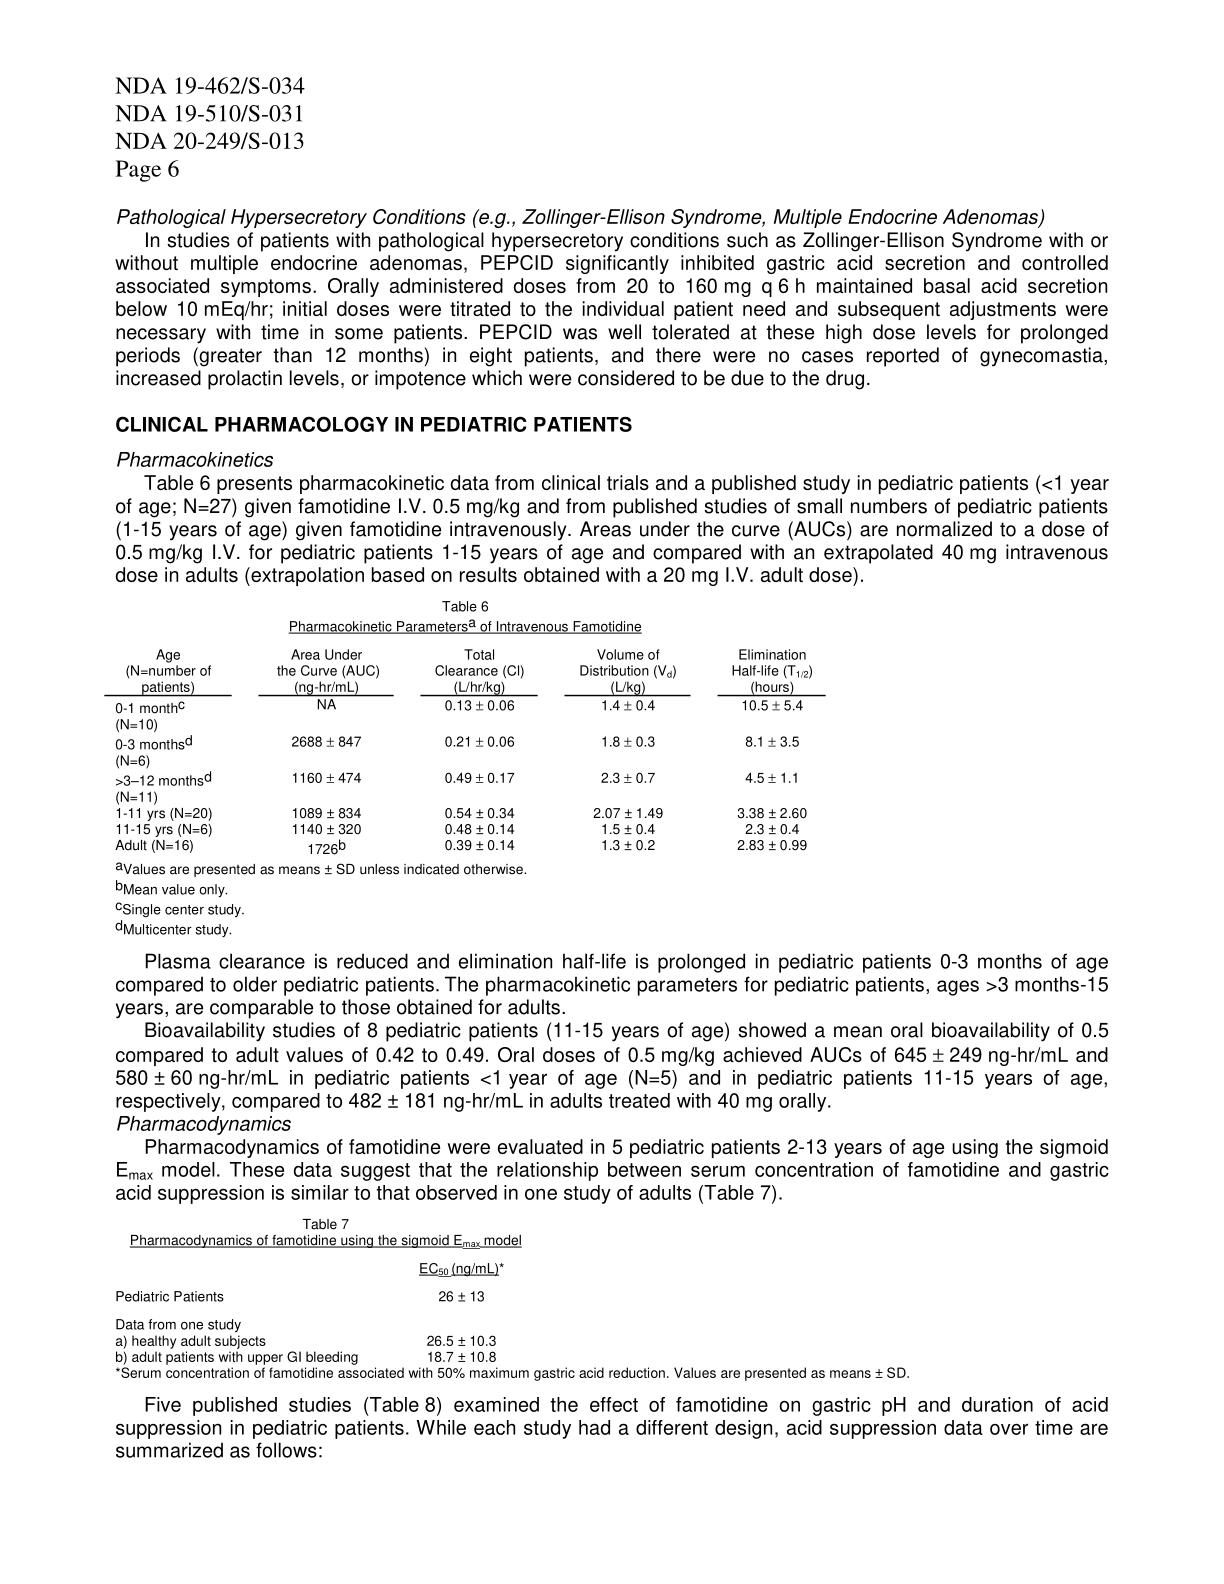nolines: (105, 645, 824, 852), (113, 1263, 505, 1365)
